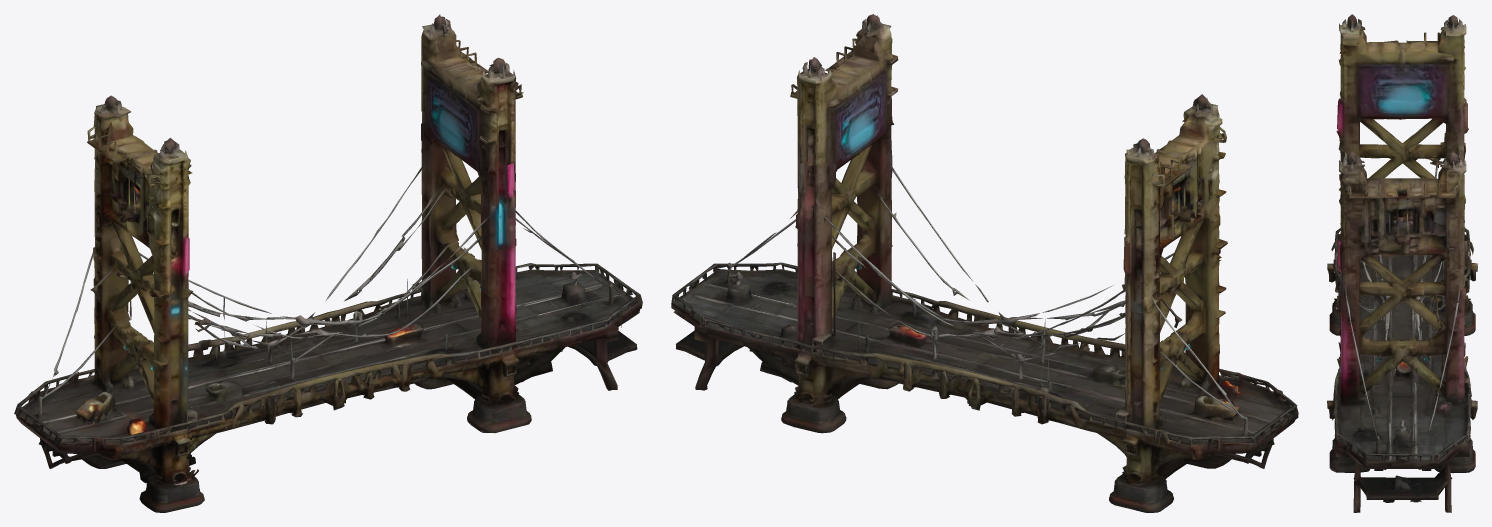
The model's file is lm_bridge.glb.
The picture shows the model from 3 angles, left to right: view 1: azimuth 30°, elevation 25°; view 2: azimuth 150°, elevation 25°; view 3: azimuth 270°, elevation 25°; orthographic projection. The views are drawn at different scales.
Parts seen in each view (by area): view 1: tripo_node_3e39682a-abda-4ce6-a254-eced2df57c51; view 2: tripo_node_3e39682a-abda-4ce6-a254-eced2df57c51; view 3: tripo_node_3e39682a-abda-4ce6-a254-eced2df57c51.
Part boxes in pixels (box(x1,y1,x2,y2)): tripo_node_3e39682a-abda-4ce6-a254-eced2df57c51: box(14, 14, 642, 512); tripo_node_3e39682a-abda-4ce6-a254-eced2df57c51: box(671, 14, 1298, 512); tripo_node_3e39682a-abda-4ce6-a254-eced2df57c51: box(1327, 14, 1477, 512).
Bounding box in the file's own units: 0.987 × 0.5836 × 0.2559.
Materials: 1 (1 with a texture image).
